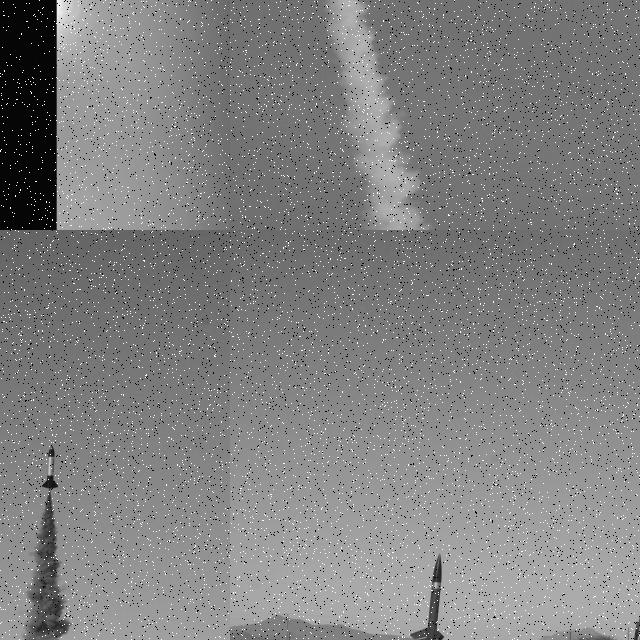Rocket: (410, 552, 446, 640), (616, 597, 640, 640), (41, 445, 58, 489)
